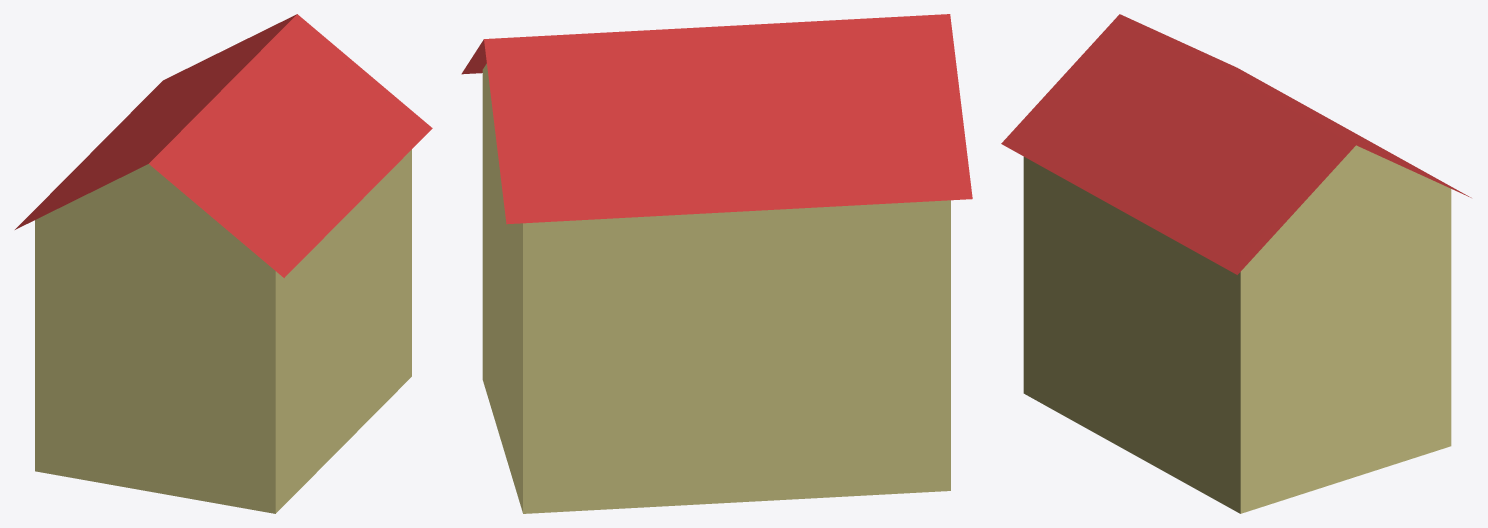
The picture shows the model from 3 angles, left to right: view 1: azimuth 30°, elevation 25°; view 2: azimuth 150°, elevation 25°; view 3: azimuth 270°, elevation 25°; orthographic projection. The views are drawn at different scales.
Size of the model in its own units: 15.29 by 14.73 by 11.69.
